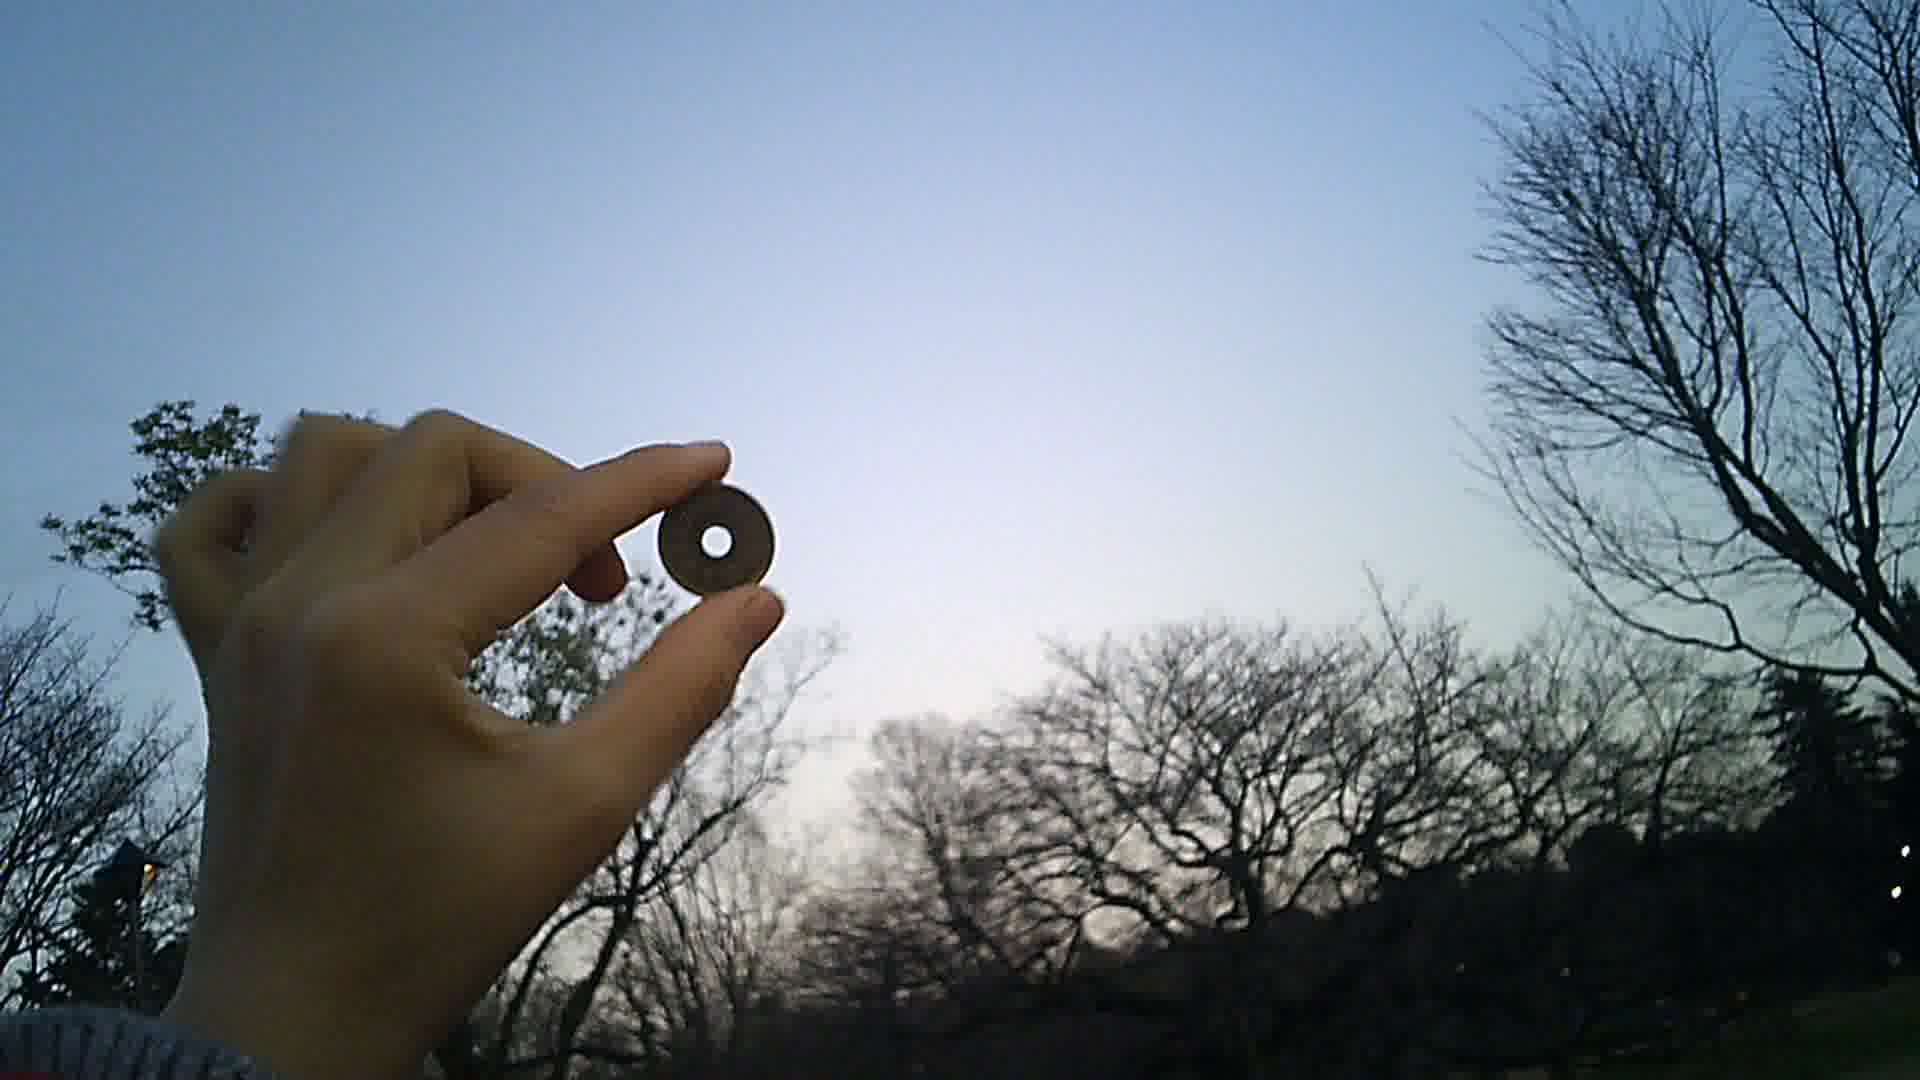5 Yen: (658, 480, 778, 597)
